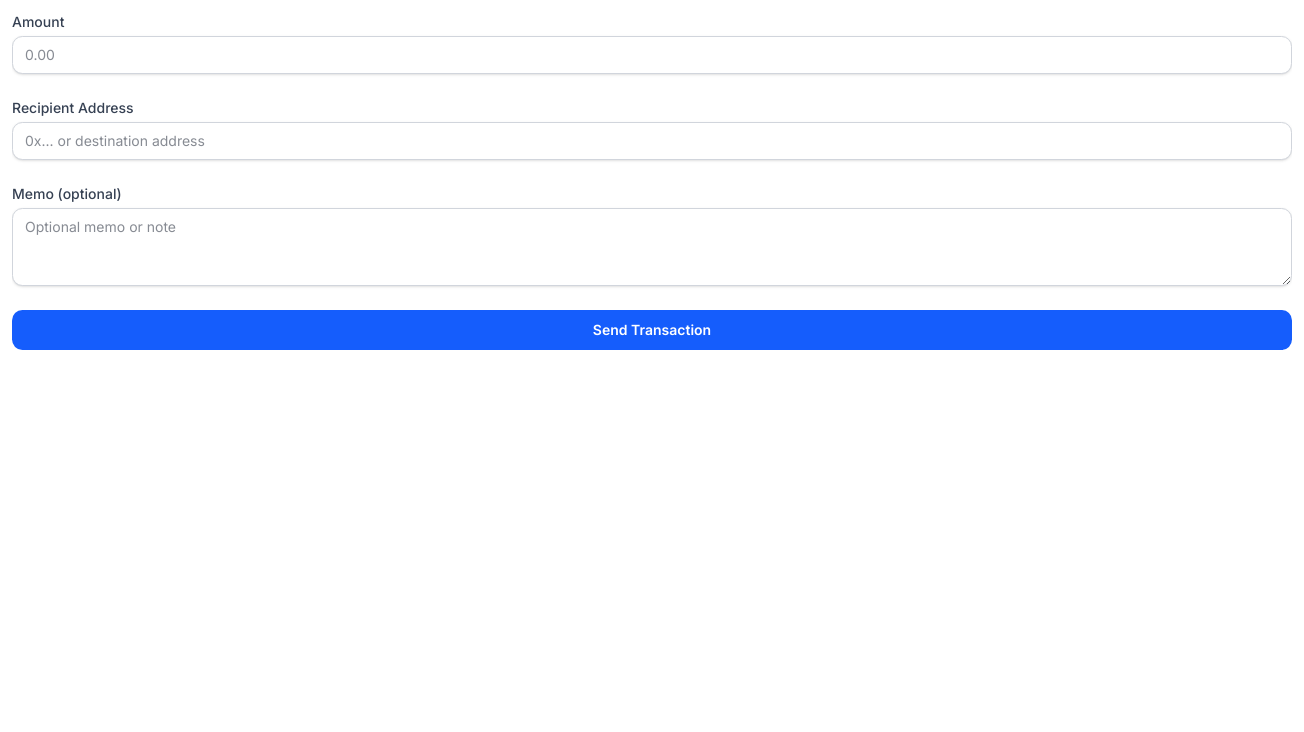
Scenario: TransactionForm › shows validation errors on submit with empty fields
Step 1. Click the button "Send Transaction" → {"x": 652, "y": 330}, box [12,310,1292,350]
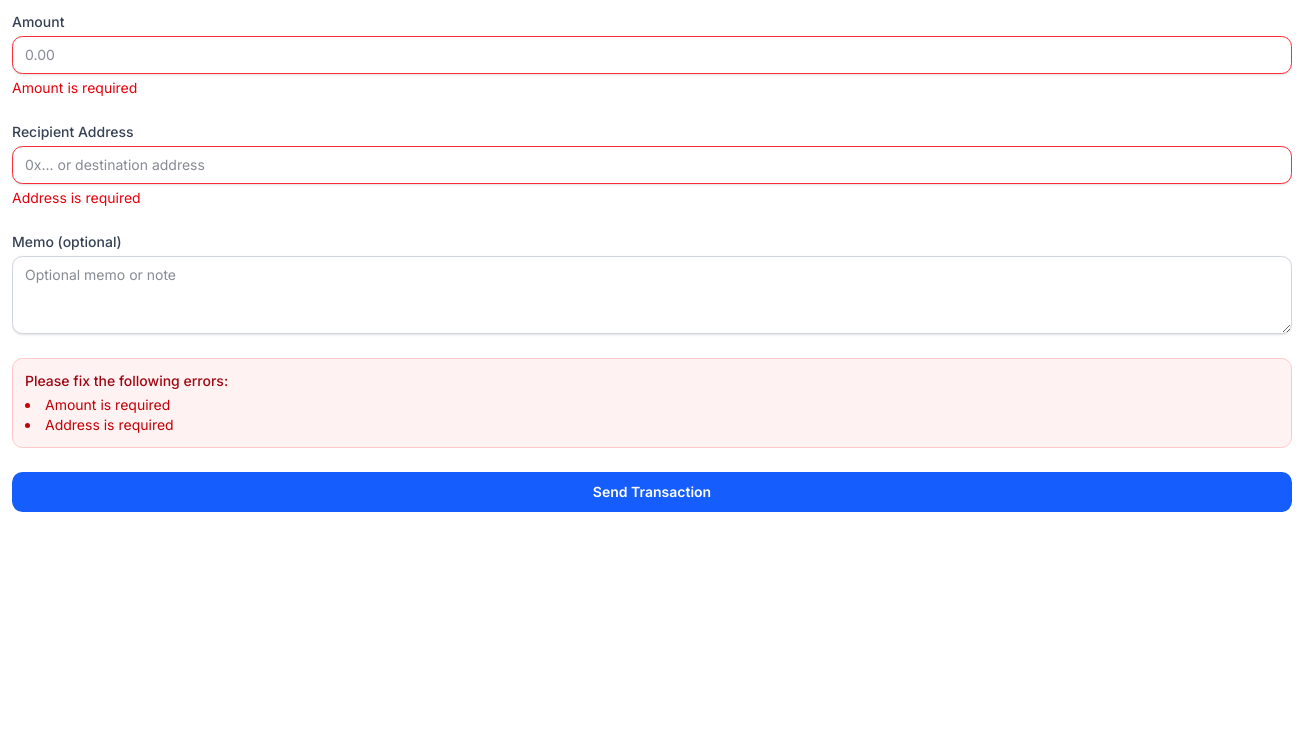
Expected: the text "Amount is required" is shown 2 times, [12,79,137,96]; [45,396,170,413]
Expected: the text "Address is required" is shown 2 times, [12,189,141,206]; [45,416,174,433]
